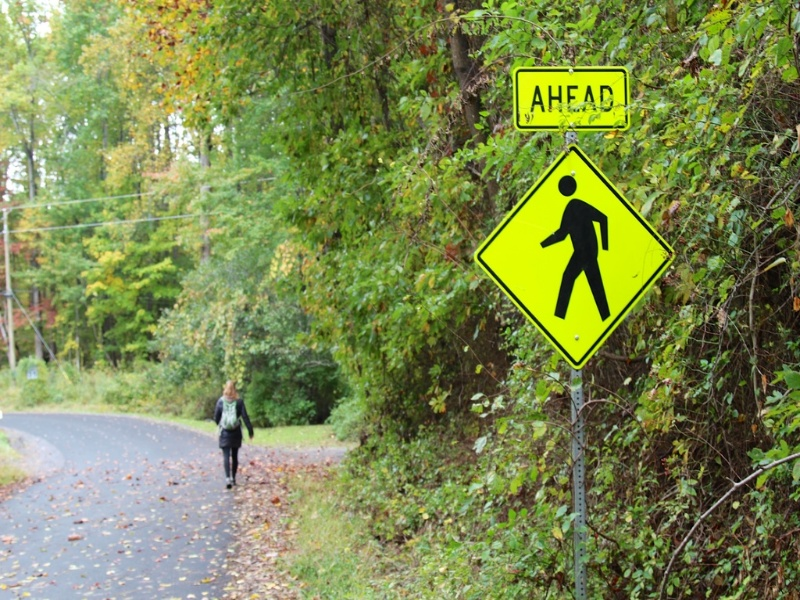pedestrian_crossing_ahead: (471, 139, 679, 373)
